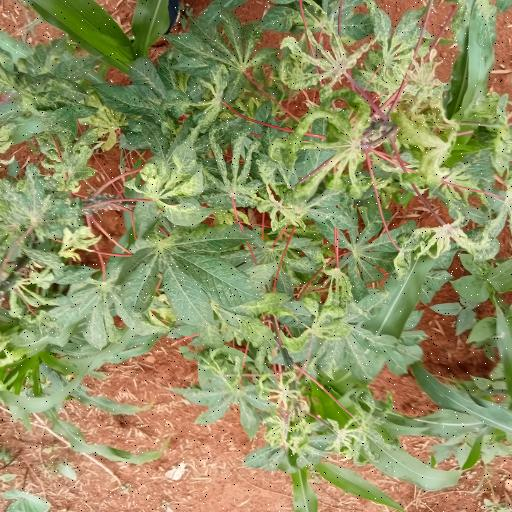Cassava_Mosaic: (123, 231, 268, 330), (0, 160, 81, 252), (175, 12, 270, 88), (185, 360, 272, 437), (128, 162, 220, 232), (281, 32, 373, 95)
